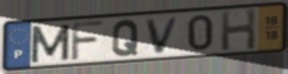0: (185, 13, 216, 53)
F: (69, 20, 106, 63)
H: (219, 7, 258, 52)
M: (28, 22, 72, 65)
Q: (110, 19, 141, 59)
V: (144, 15, 182, 56)
